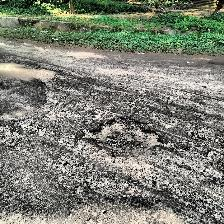pothole: (81, 116, 166, 156)
